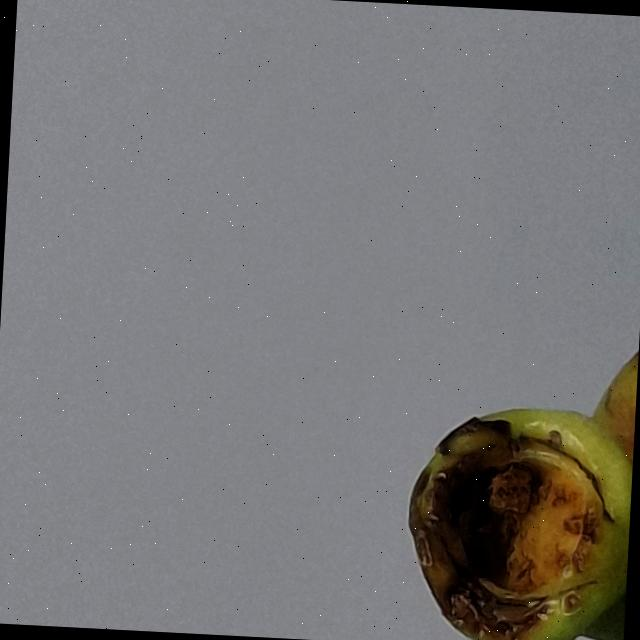mangosteen: (353, 3, 640, 640)
